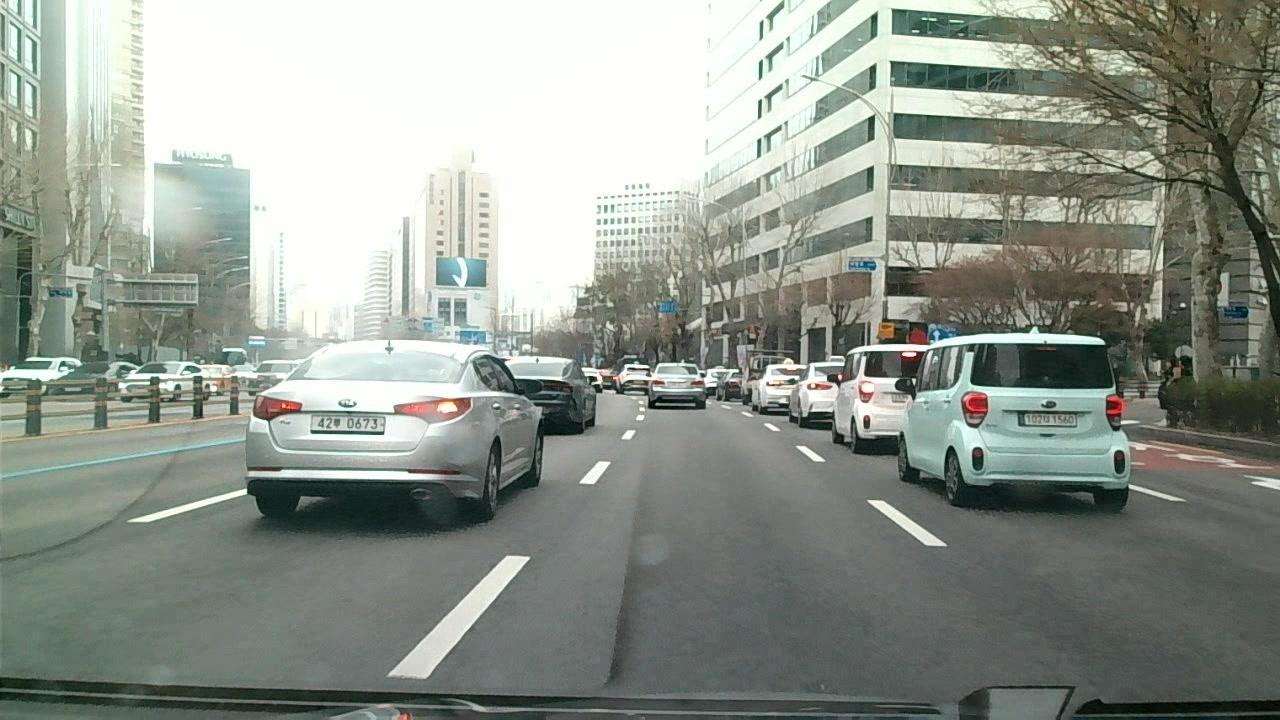banner: (599, 516, 636, 686)
